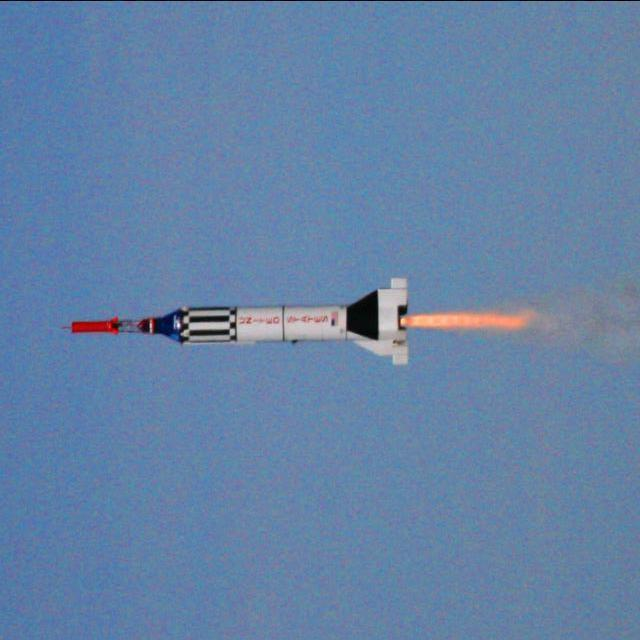missile: (68, 284, 408, 370)
